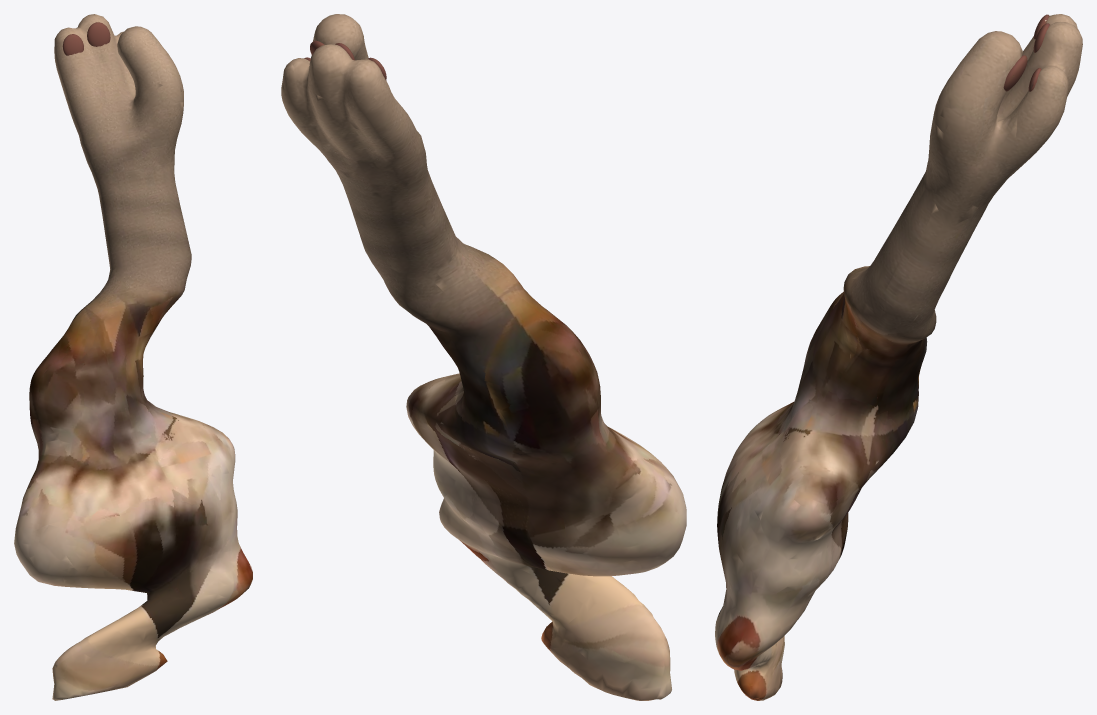
The model's file is cat-grip-v2.glb.
3 views of the same model, side by side, from view 1: azimuth 30°, elevation 25°; view 2: azimuth 150°, elevation 25°; view 3: azimuth 270°, elevation 25° (orthographic). The views are drawn at different scales.
Visible parts, largest first — view 1: cat-card-grip; view 2: cat-card-grip; view 3: cat-card-grip.
Part boxes in pixels (left/top/right/bottom): cat-card-grip: left=14, top=14, right=252, bottom=700; cat-card-grip: left=281, top=14, right=686, bottom=700; cat-card-grip: left=715, top=14, right=1082, bottom=700.
Size of the model in its own units: 1.99 by 4.75 by 2.15.
Materials: 1 (1 with a texture image).
